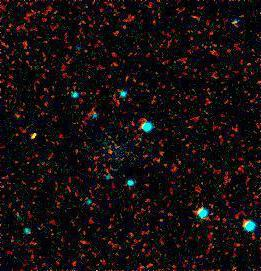star: (19, 122, 49, 152)
